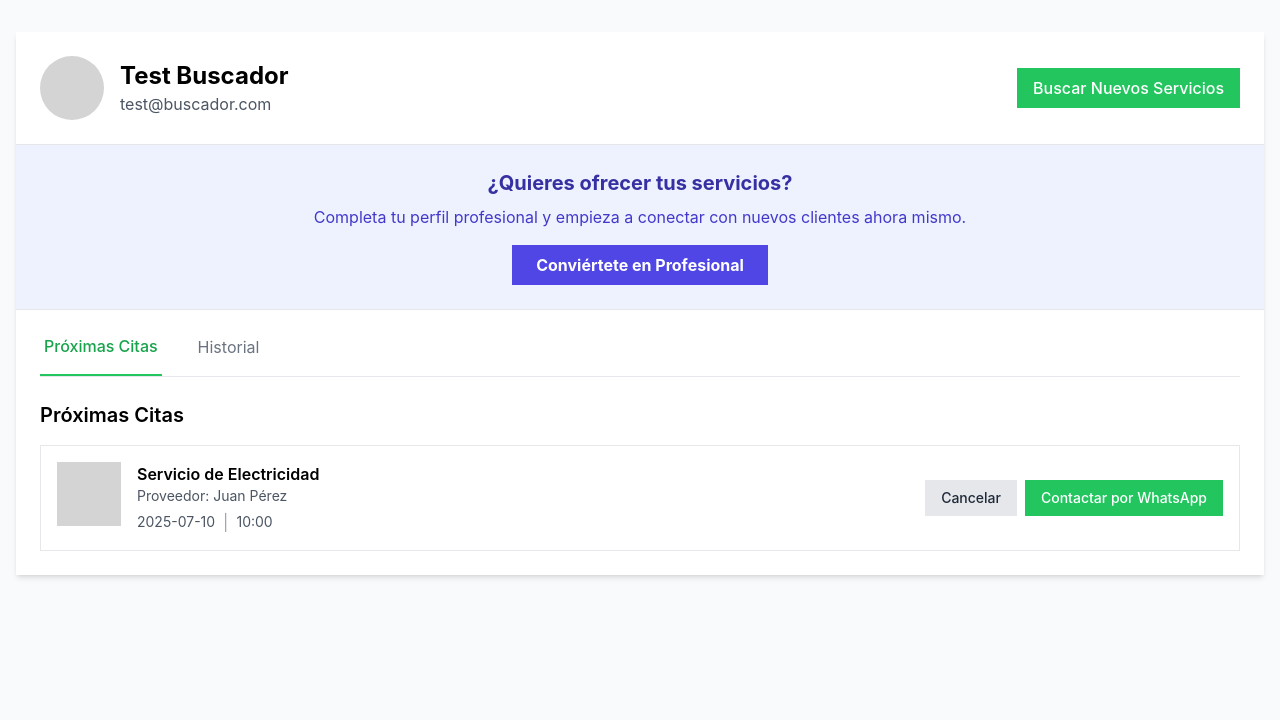
UserDashboard › debe cambiar a la pestaña "Completada" y mostrar las citas completadas
Expected: the heading "Servicio de Electricidad" is shown, [137,462,319,486]
Click the button "Historial" at (228, 355), box [194,334,263,376]
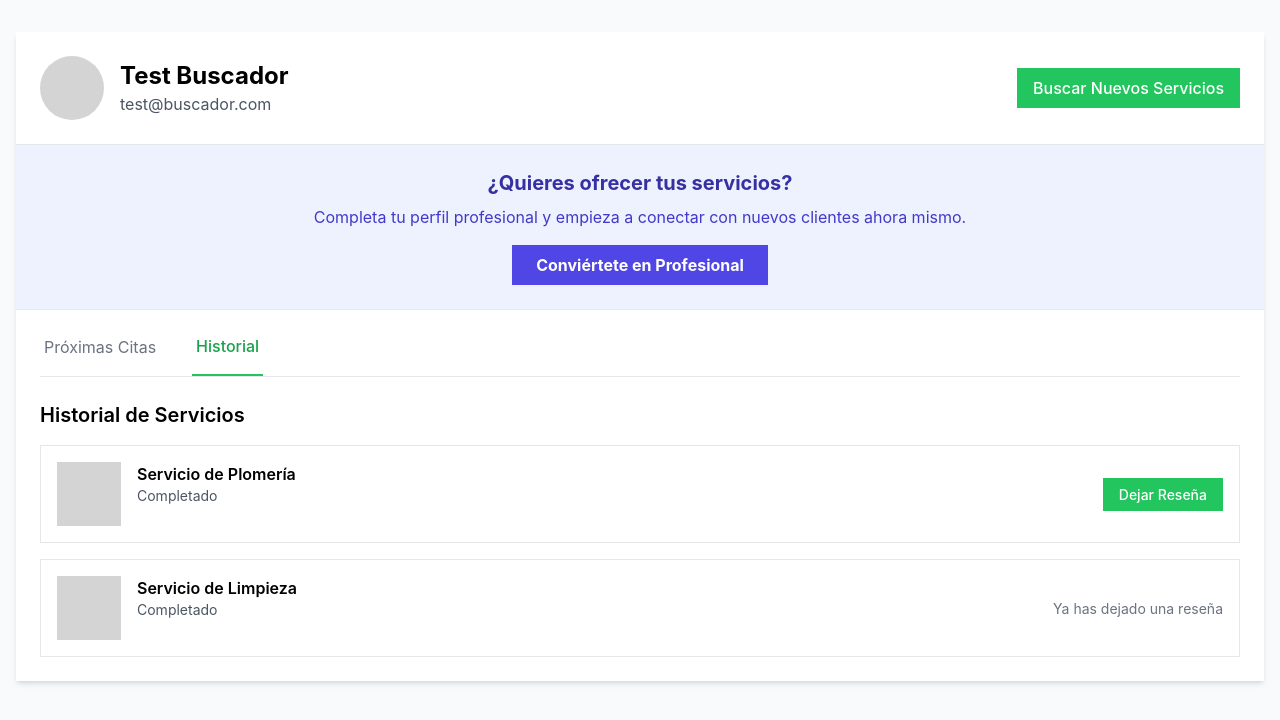
Result: the heading "Historial de Servicios" is shown at [40,403,245,427]
Result: the heading "Servicio de Plomería" is shown at [137,462,296,486]
Result: the text "Completado" below "Servicio de Plomería" is shown at [137,487,218,504]
